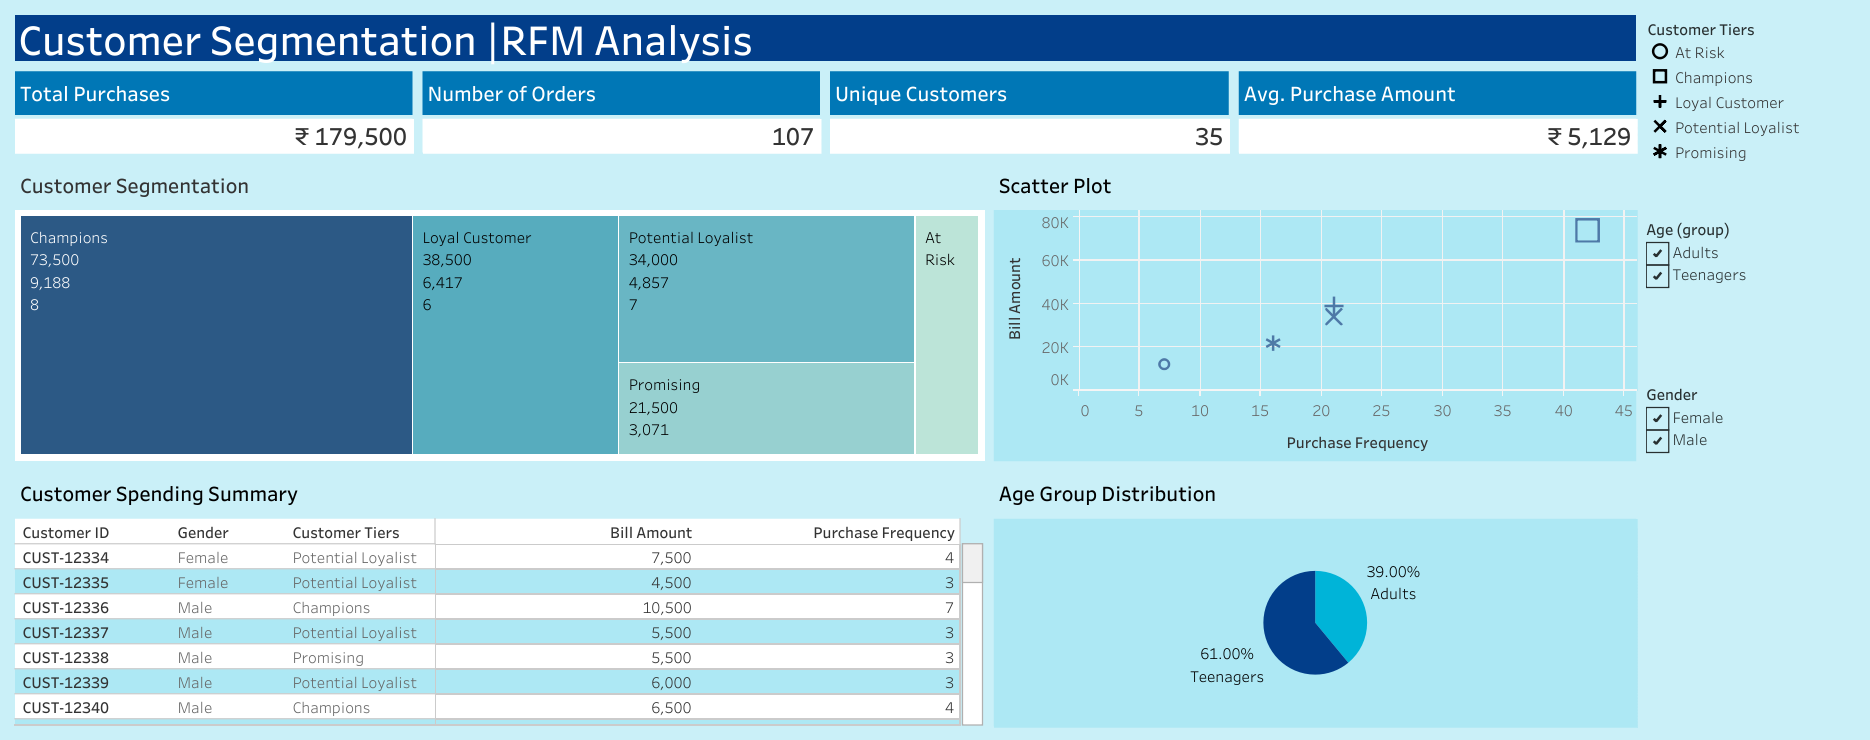

What the dashboard file says about the page in this screenshot:
{"tool":"tableau","page":{"name":"Dashboard","canvas":[1000,1000],"units":"permille","ordinal":0},"visuals":[{"type":"text","box":[4.9,10,872.4,76.2]},{"type":"legend","title":"Scatter Plot","param":"[federated.07o92oq12v69wv1da0a950a758c1].[none:Customer Tiers:nk]","box":[877.3,10,117.8,201]},{"type":"worksheet","title":"Total Purchases","mark":"Automatic","box":[4.9,86.1,218.1,93.6]},{"type":"worksheet","title":"Number of Orders","mark":"Automatic","box":[223,86.1,218.1,93.6]},{"type":"worksheet","title":"Unique Customers","mark":"Automatic","box":[441.1,86.1,218.1,93.6]},{"type":"worksheet","title":"Average Purchase Amount","mark":"Automatic","box":[659.2,86.1,218.1,93.6]},{"type":"worksheet","title":"Tree Map","mark":"Automatic","box":[4.9,179.8,523.4,404.5]},{"type":"worksheet","title":"Scatter Plot","mark":"Automatic","rows":["Bill Amount"],"cols":["Purchase Frequency"],"box":[528.4,179.8,348.9,405.1]},{"type":"filter","title":"Pie Chart","param":"[federated.07o92oq12v69wv1da0a950a758c1].[Age (group)]","box":[877.3,211,117.8,164.8]},{"type":"filter","title":"Customer Table","param":"[federated.07o92oq12v69wv1da0a950a758c1].[none:Gender:nk]","box":[877.3,375.8,117.8,152.3]},{"type":"worksheet","title":"Customer Table","mark":"Automatic","rows":["Customer ID","Gender","Customer Tiers"],"box":[4.9,584.3,523.4,405.7]},{"type":"worksheet","title":"Pie Chart","mark":"Pie","box":[528.4,584.9,348.9,405.1]}]}

Visuals, with their boxes on the dashboard's canvas, which has no fixed pixel size, in thousandths of its width and height (x1, y1, x2, y2). These are canvas units, not pixel positions in the 1870x740 screenshot, which may show the page scaled, cropped or inside an application window:
text: 5,10,877,86
"Scatter Plot" legend: 877,10,995,211
"Total Purchases" worksheet: 5,86,223,180
"Number of Orders" worksheet: 223,86,441,180
"Unique Customers" worksheet: 441,86,659,180
"Average Purchase Amount" worksheet: 659,86,877,180
"Tree Map" worksheet: 5,180,528,584
"Scatter Plot" worksheet: 528,180,877,585
"Pie Chart" filter: 877,211,995,376
"Customer Table" filter: 877,376,995,528
"Customer Table" worksheet: 5,584,528,990
"Pie Chart" worksheet (Pie marks): 528,585,877,990
